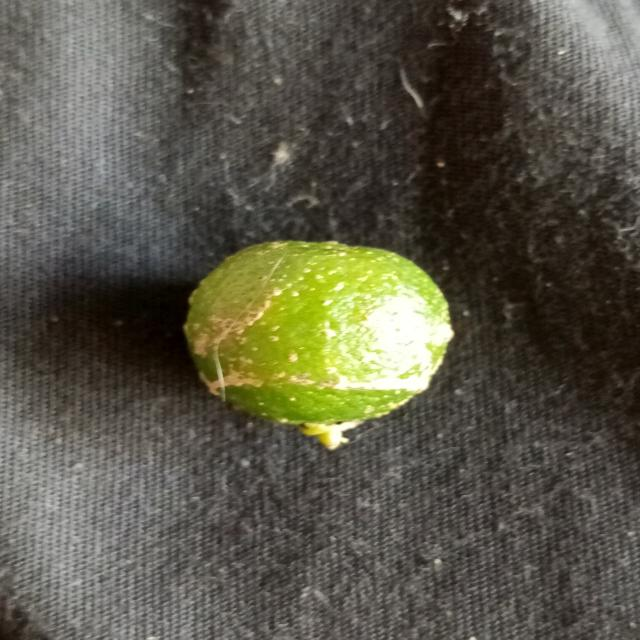scab: (176, 228, 458, 460)
